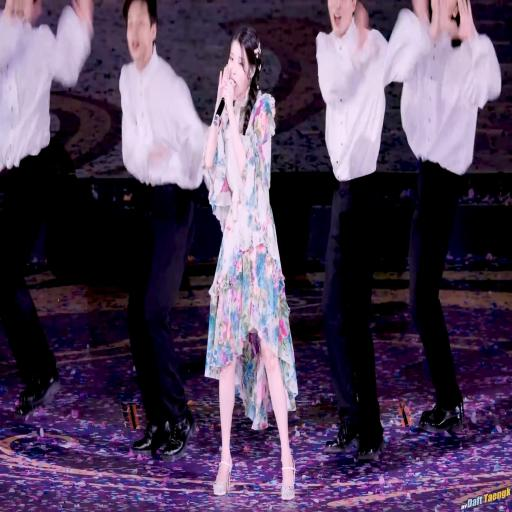IU: (228, 27, 262, 100)
